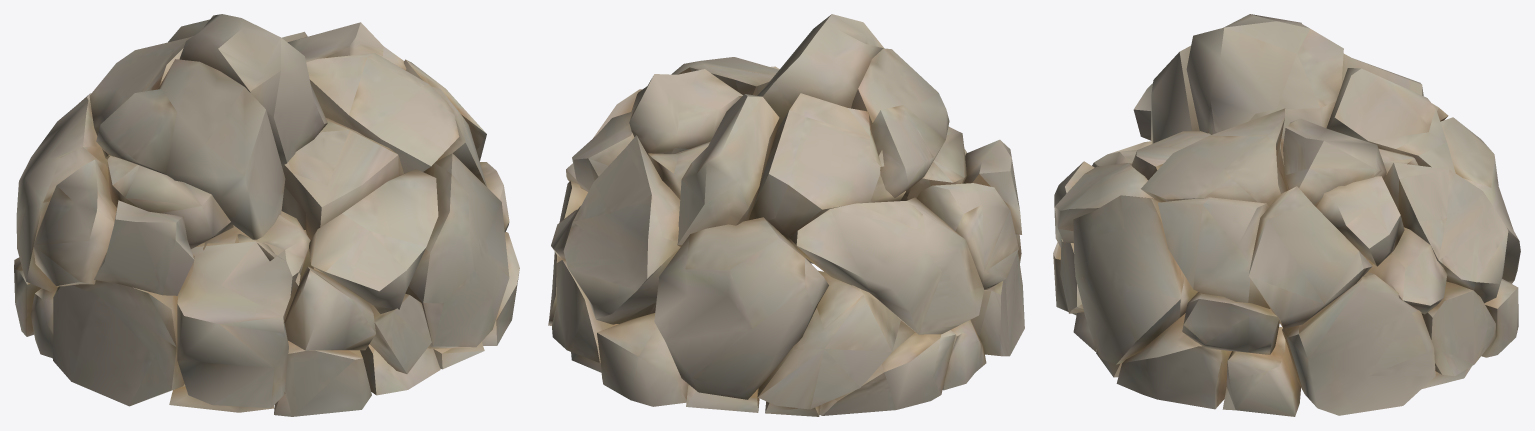
The model's file is resource_limestone_1.glb.
3 views of the same model, side by side, from view 1: azimuth 30°, elevation 25°; view 2: azimuth 150°, elevation 25°; view 3: azimuth 270°, elevation 25° (orthographic). The views are drawn at different scales.
Visible parts, largest first — view 1: MeshyGear_resource_limestone; view 2: MeshyGear_resource_limestone; view 3: MeshyGear_resource_limestone.
Part boxes in pixels (<box>): MeshyGear_resource_limestone: <box>14,14,519,416</box>; MeshyGear_resource_limestone: <box>548,14,1024,416</box>; MeshyGear_resource_limestone: <box>1053,14,1520,416</box>.
Size of what is drawn, in the model's own units: 2.22 by 1.51 by 2.21.
Materials: 1 (1 with a texture image).
